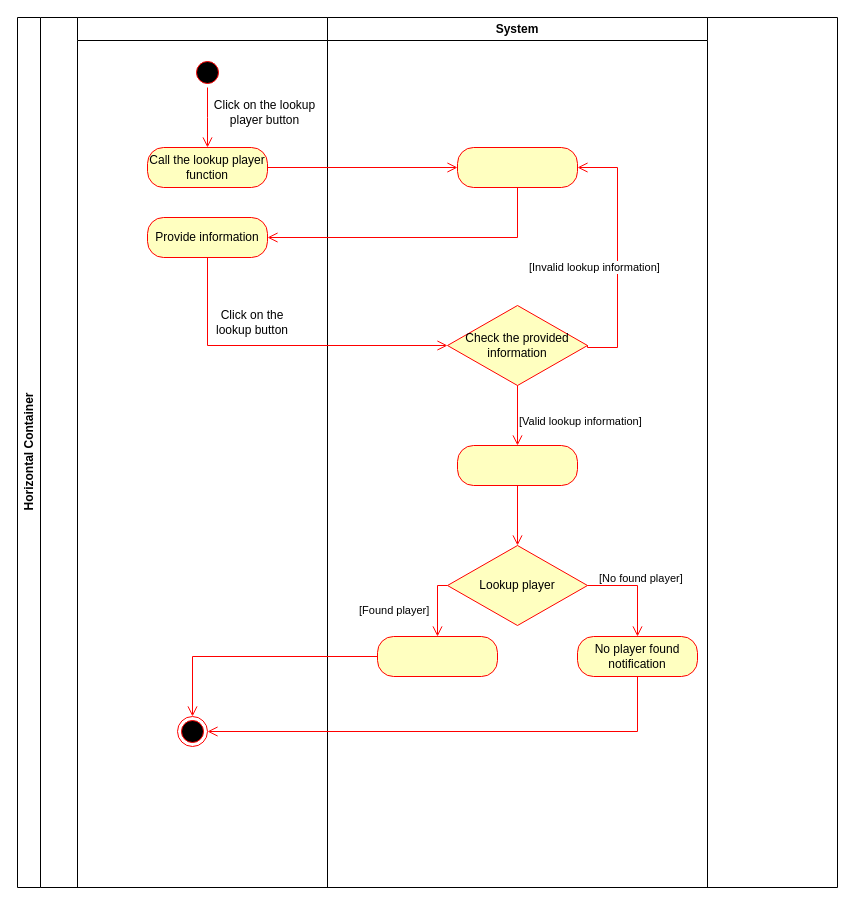
Image size: 855x905. Some labels were removed from this diagram. Here are the shapes that lost their labels. From the top down, the box of each, then its label:
(456, 146, 578, 188): Request information provided
(76, 16, 328, 888): User
(456, 444, 578, 486): Pass the lookup information to the lookup function
(376, 636, 498, 676): Display all players found
